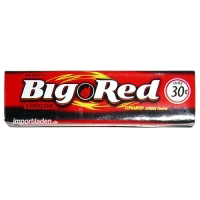grozi_7: (4, 70, 196, 127)
